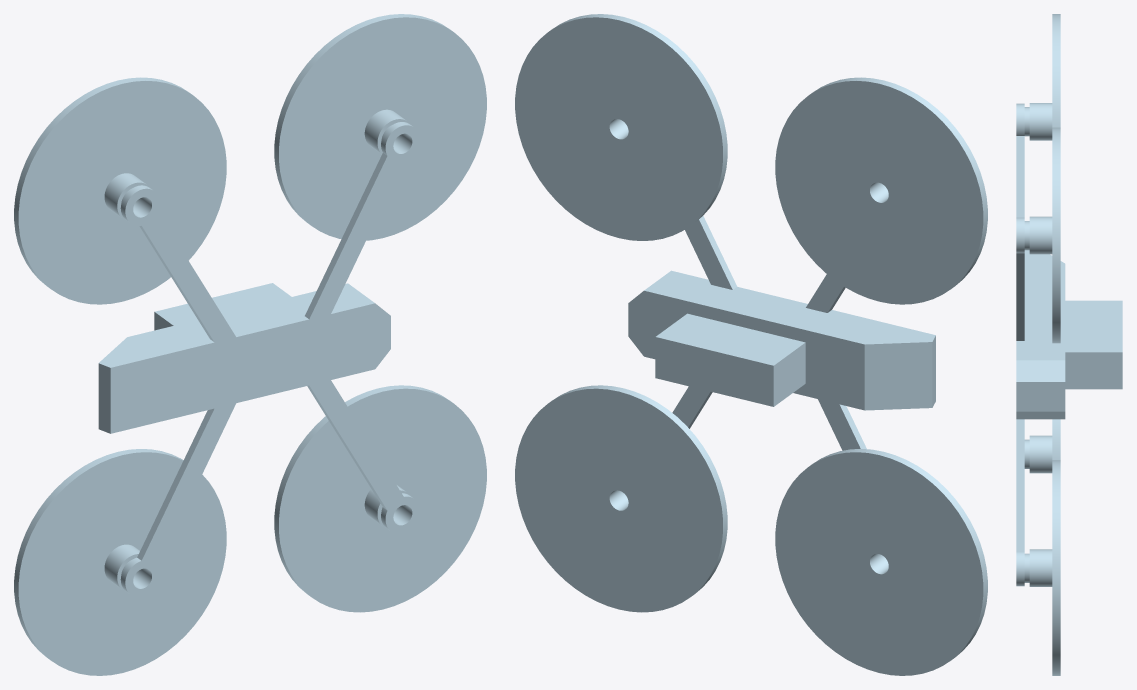
File: fpv-drone-2.gltf
3 renders of one model, left to right at view 1: azimuth 30°, elevation 25°; view 2: azimuth 150°, elevation 25°; view 3: azimuth 270°, elevation 25°, orthographic. The views are drawn at different scales.
Visible parts, largest first — view 1: Part 1; view 2: Part 1; view 3: Part 1.
Part boxes in pixels (box(x1,y1,x2,y2)): Part 1: box(14, 14, 486, 675); Part 1: box(515, 14, 987, 675); Part 1: box(1016, 14, 1122, 675).
Size of the model in its own units: 0.2969 by 0.3571 by 0.065.
